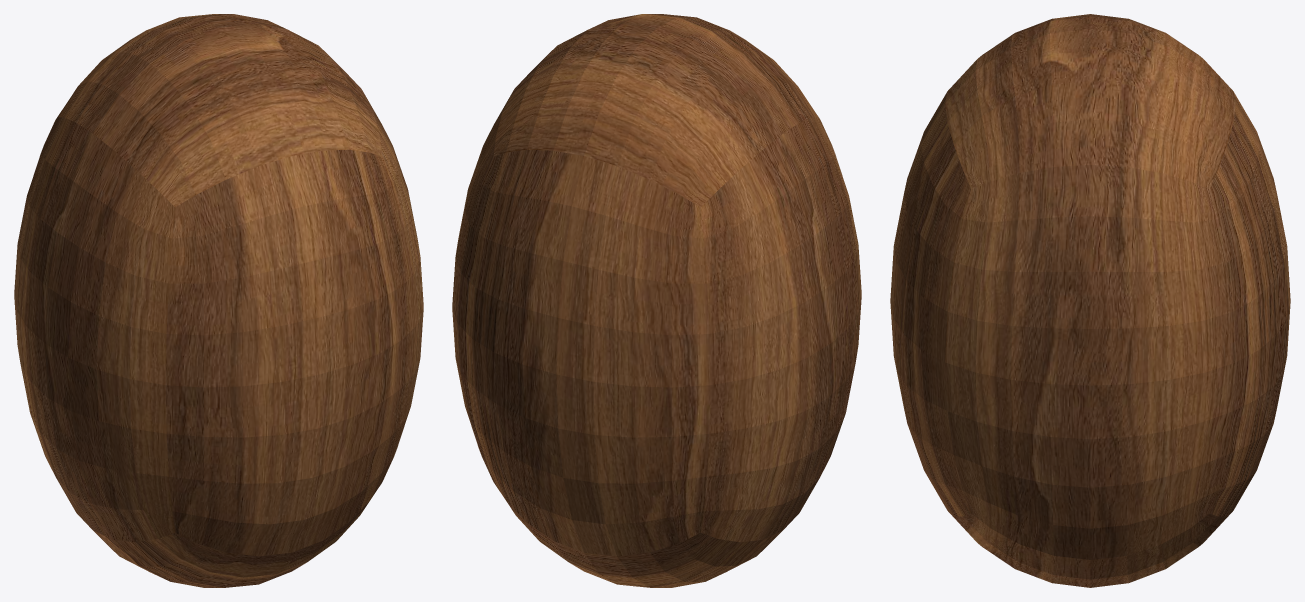
3 renders of one model, left to right at view 1: azimuth 30°, elevation 25°; view 2: azimuth 150°, elevation 25°; view 3: azimuth 270°, elevation 25°, orthographic.
Visible parts, largest first — view 1: Cube; view 2: Cube; view 3: Cube.
Boxes of the visible parts, bbox=[...] form: Cube: bbox=[14, 14, 423, 587]; Cube: bbox=[452, 14, 861, 587]; Cube: bbox=[890, 14, 1290, 587].
Size of the model in its own units: 1.68 by 2.52 by 1.68.
1 material, 1 textured.
